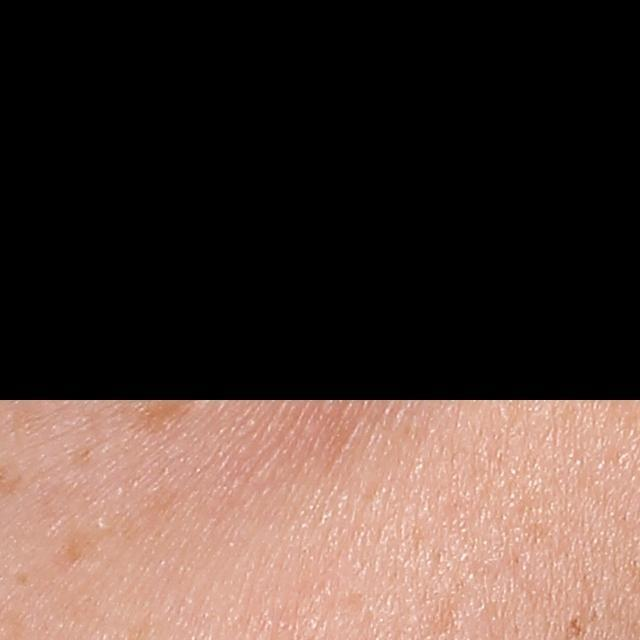melasma: (118, 378, 205, 442), (567, 612, 584, 640)
